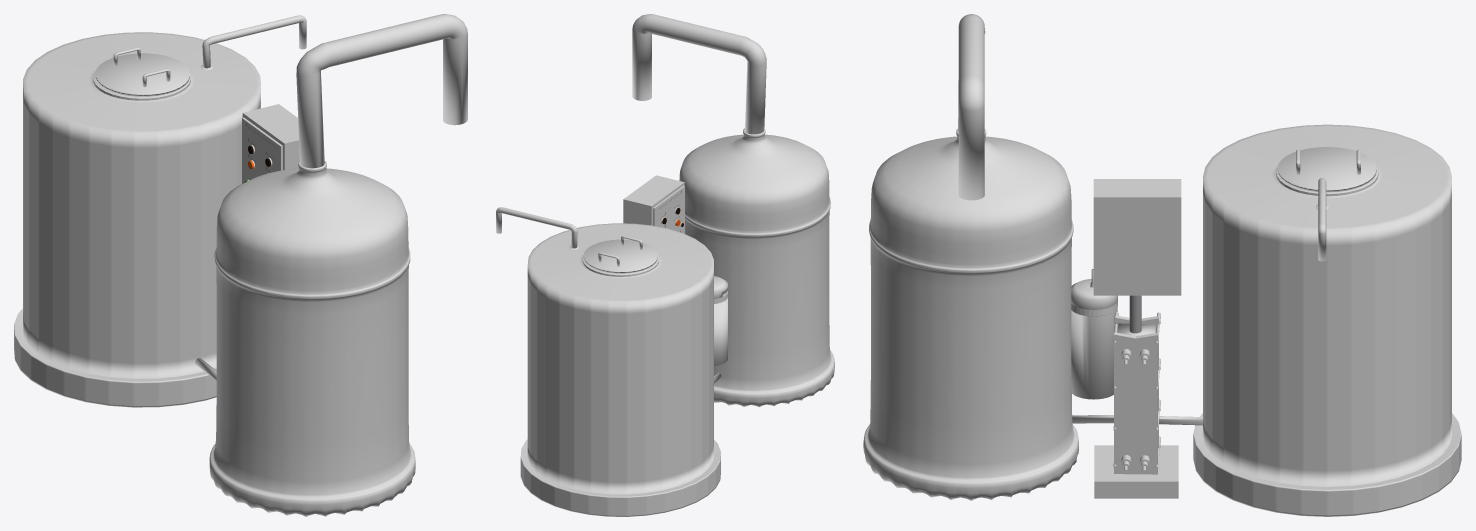
Rendered from troisbrasseurs(4).fbx.
3 renders of one model, left to right at view 1: azimuth 30°, elevation 25°; view 2: azimuth 150°, elevation 25°; view 3: azimuth 270°, elevation 25°, orthographic. The views are drawn at different scales.
Visible parts, largest first — view 1: Cylinder.008, cuve deux, Cylinder.003, Cylinder.016; view 2: Cylinder.008, cuve deux, Cylinder.003, Cylinder.016, cuve trois; view 3: Cylinder.008, cuve deux, Cylinder.016, Cylinder.004, Cylinder.003, cuve trois, Cube.
Part boxes in pixels (bbox=[...]): Cylinder.008: bbox=[14, 15, 306, 407]; cuve deux: bbox=[209, 160, 415, 516]; Cylinder.003: bbox=[296, 14, 467, 168]; Cylinder.016: bbox=[242, 104, 299, 183]; Cylinder.008: bbox=[496, 207, 720, 516]; cuve deux: bbox=[679, 128, 834, 407]; Cylinder.003: bbox=[632, 14, 766, 134]; Cylinder.016: bbox=[623, 175, 684, 233]; cuve trois: bbox=[714, 276, 727, 365]; Cylinder.008: bbox=[1193, 124, 1461, 516]; cuve deux: bbox=[863, 129, 1078, 500]; Cylinder.016: bbox=[1093, 179, 1181, 295]; Cylinder.004: bbox=[1113, 312, 1160, 474]; Cylinder.003: bbox=[958, 14, 985, 200]; cuve trois: bbox=[1071, 269, 1117, 399]; Cube: bbox=[1094, 445, 1178, 498].
Size of the model in its own units: 138 by 208 by 251.
18 materials, 1 textured.
